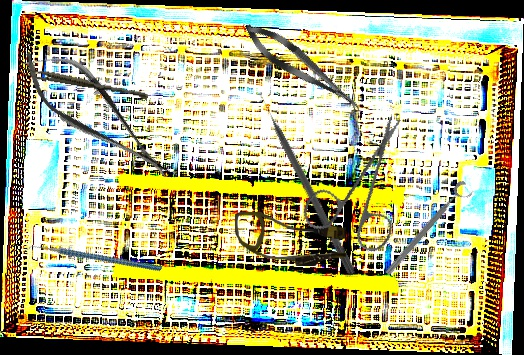Cannula: (234, 212, 347, 267)
Chopper: (22, 204, 163, 316)
Fixation Ring: (382, 178, 476, 283)
Iris Scissors: (282, 113, 440, 270)
Micro Scissor: (8, 31, 185, 198), (238, 15, 368, 121)
Pusher: (255, 90, 359, 277)
Tissue Forceps: (22, 67, 149, 100)
